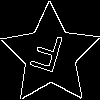F: (25, 30, 66, 83)
